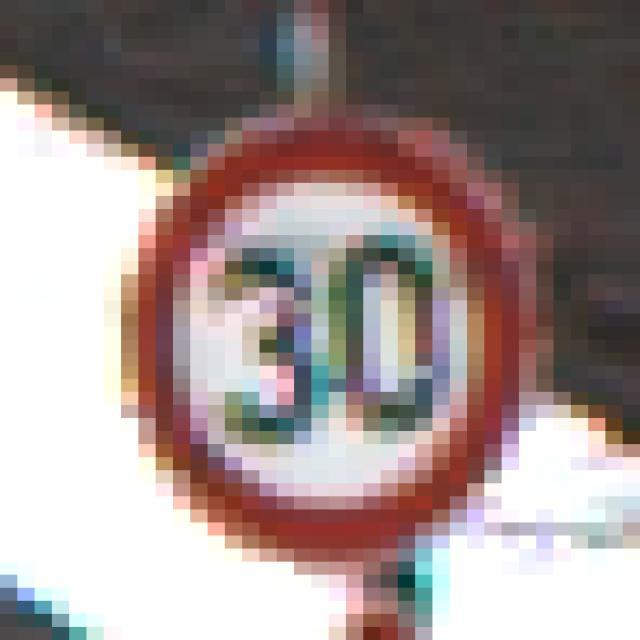Speed Limit -30-: (78, 72, 528, 556)
